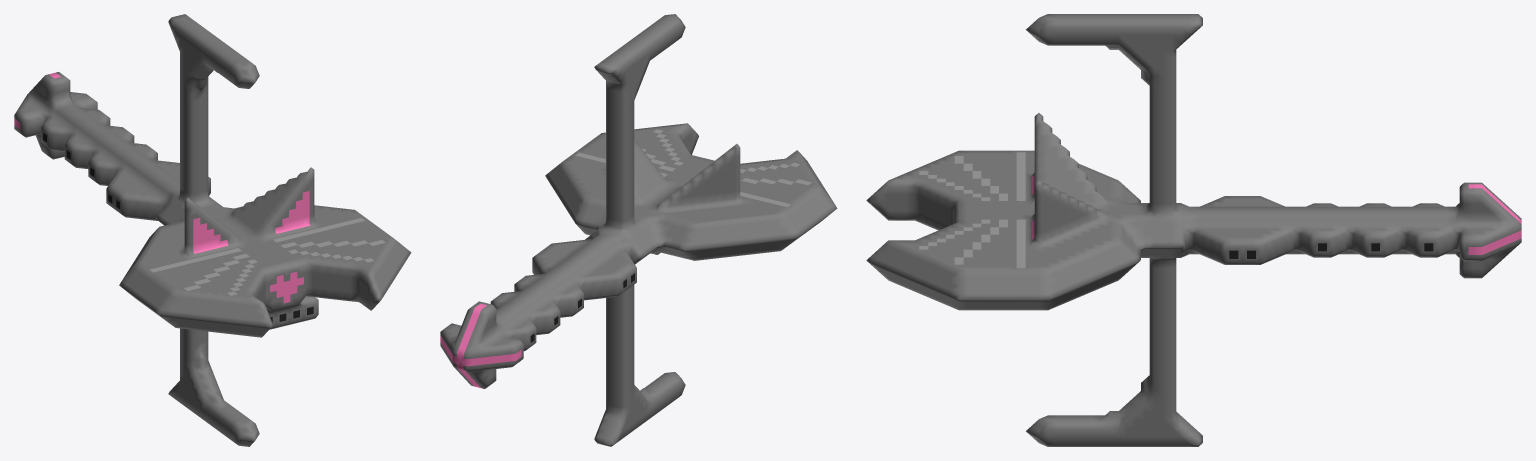
Rendered from felinae-3-lynx-class.obj.
3 views of the same model, side by side, from view 1: azimuth 30°, elevation 25°; view 2: azimuth 150°, elevation 25°; view 3: azimuth 270°, elevation 25° (orthographic). The views are drawn at different scales.
Size of the model in its own units: 37 by 53 by 74.
1 material, 1 textured.
